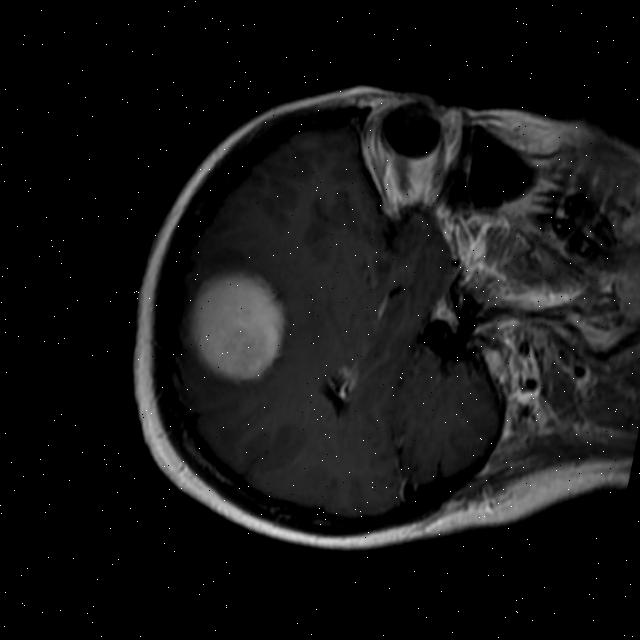Meningioma: (171, 254, 302, 395)
